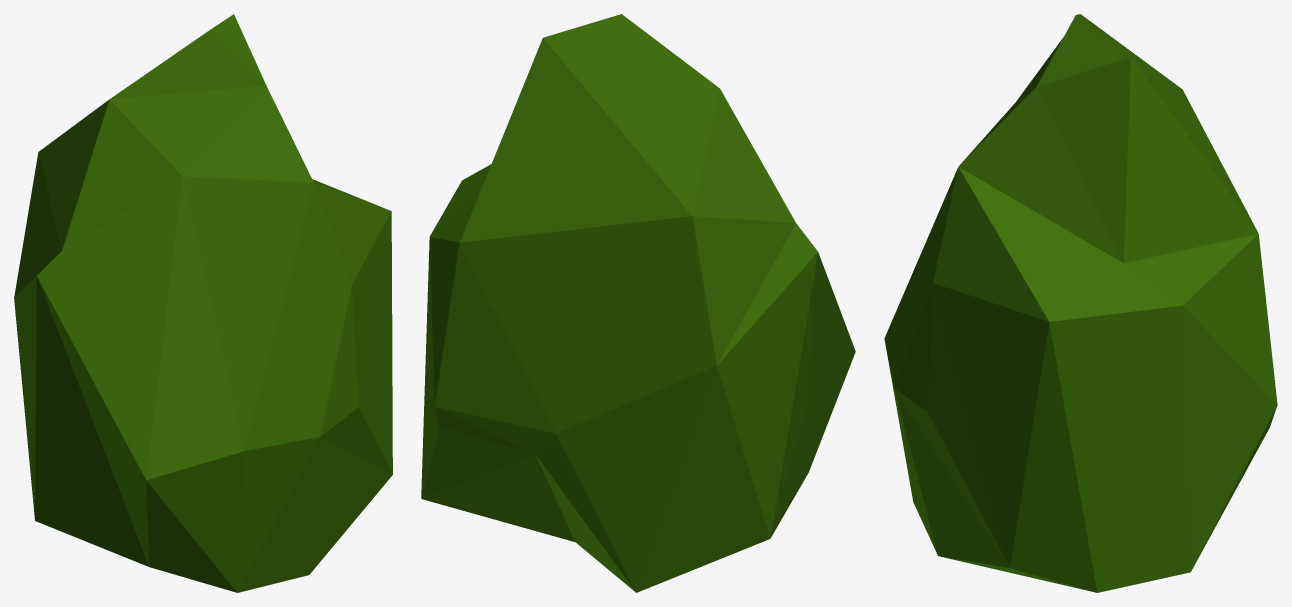
The model's file is bush_9.FBX.
The picture shows the model from 3 angles, left to right: view 1: azimuth 30°, elevation 25°; view 2: azimuth 150°, elevation 25°; view 3: azimuth 270°, elevation 25°; orthographic projection. The views are drawn at different scales.
Parts seen in each view (by area): view 1: bush_9; view 2: bush_9; view 3: bush_9.
Boxes of the visible parts, <box> form: bush_9: <box>14,14,392,592</box>; bush_9: <box>421,14,855,592</box>; bush_9: <box>884,14,1277,592</box>.
Size of the model in its own units: 260 by 361 by 238.
